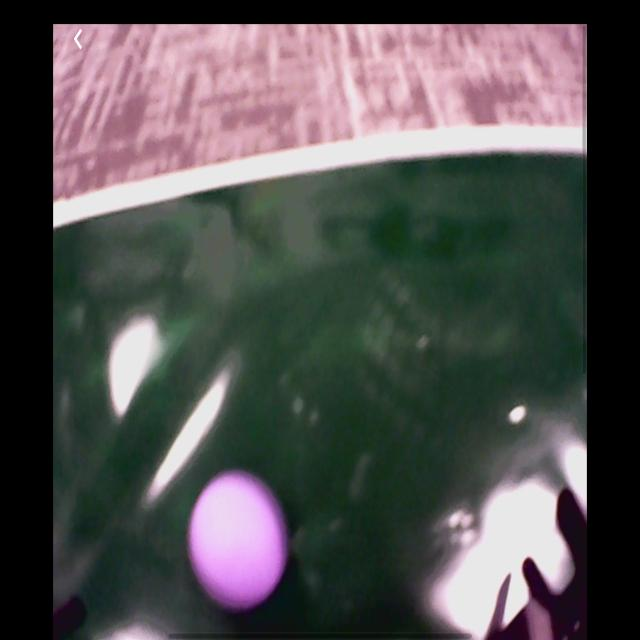ball: (185, 465, 291, 612)
